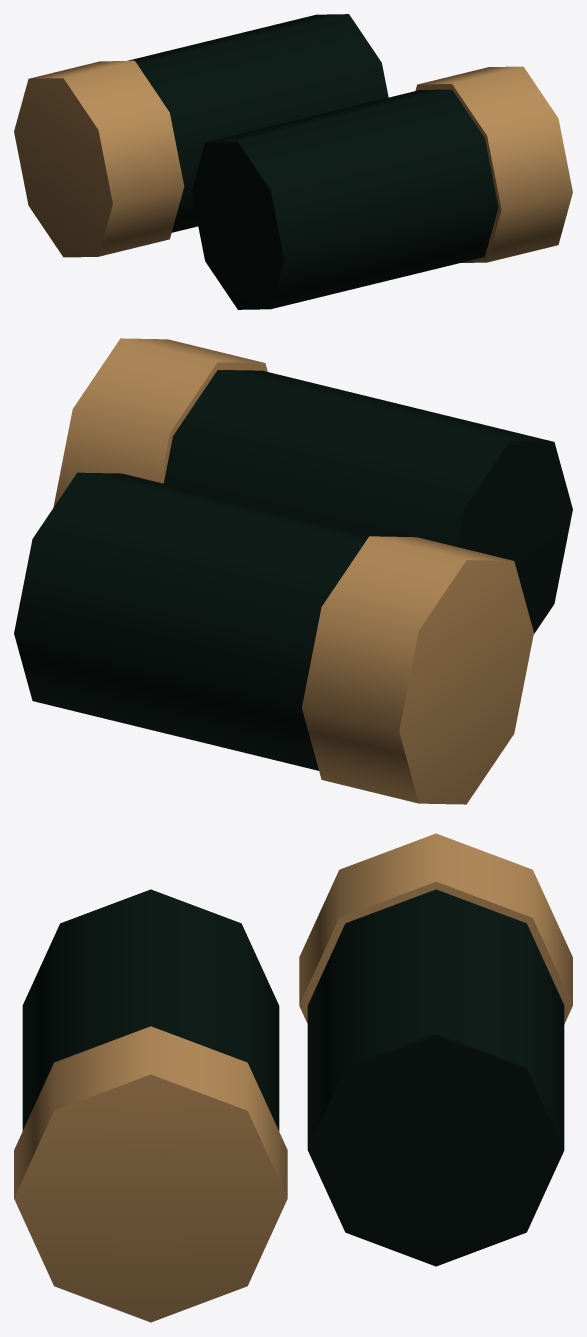
File: piercing-shotgun-shell.glb
The picture shows the model from 3 angles, top to bottom: view 1: azimuth 30°, elevation 25°; view 2: azimuth 150°, elevation 25°; view 3: azimuth 270°, elevation 25°; orthographic projection. The views are drawn at different scales.
Visible parts, largest first — view 1: piercing-shotgun-shell; view 2: piercing-shotgun-shell; view 3: piercing-shotgun-shell.
Boxes of the visible parts, bbox=[...] form: piercing-shotgun-shell: bbox=[14, 14, 572, 309]; piercing-shotgun-shell: bbox=[14, 338, 572, 804]; piercing-shotgun-shell: bbox=[14, 833, 572, 1322].
Bounding box in the file's own units: 0.2 × 0.096 × 0.196.
